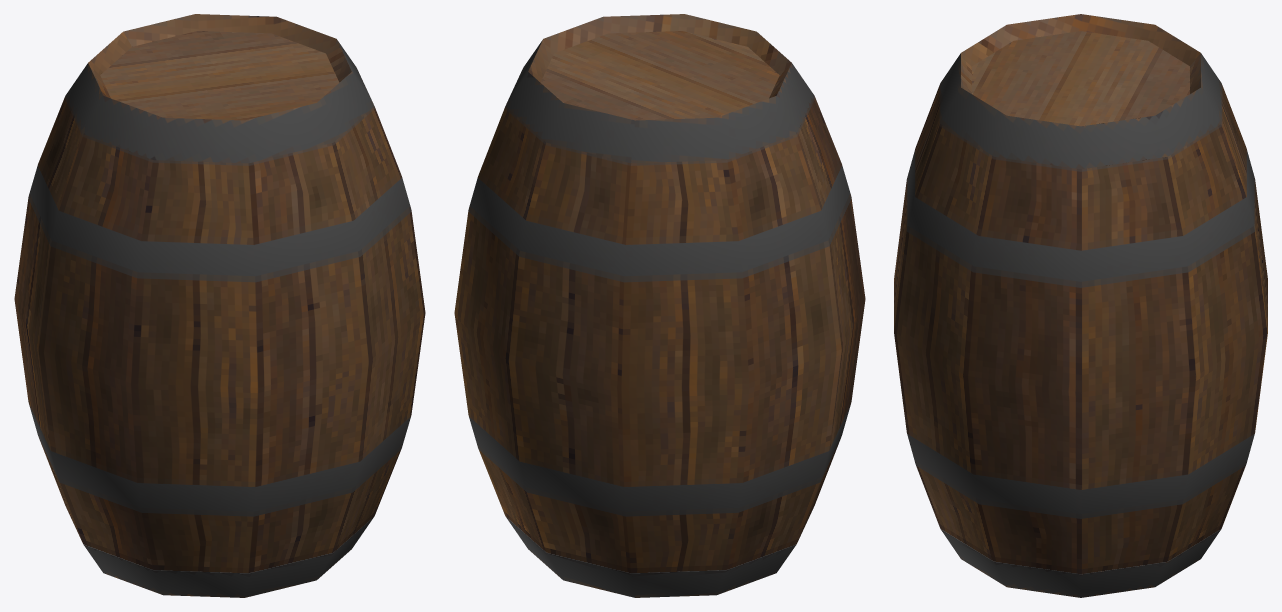
File: WoodenBarrel.fbx
3 renders of one model, left to right at view 1: azimuth 30°, elevation 25°; view 2: azimuth 150°, elevation 25°; view 3: azimuth 270°, elevation 25°, orthographic.
Visible parts, largest first — view 1: WoodenBarrel; view 2: WoodenBarrel; view 3: WoodenBarrel.
Boxes of the visible parts, left/top/right/bottom form: WoodenBarrel: left=14, top=14, right=425, bottom=597; WoodenBarrel: left=454, top=14, right=865, bottom=597; WoodenBarrel: left=894, top=14, right=1267, bottom=597.
Size of the model in its own units: 112 by 141 by 101.
Materials: 1 (1 with a texture image).
